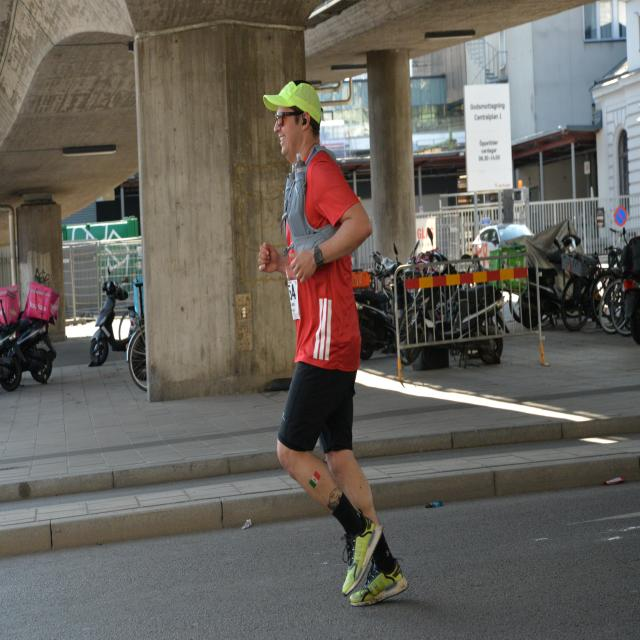runner-detect: (244, 74, 430, 606)
